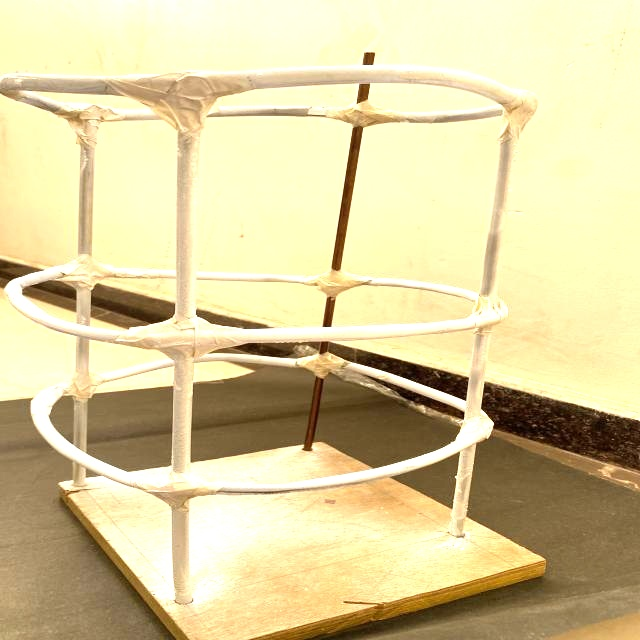silo: (0, 60, 547, 608)
